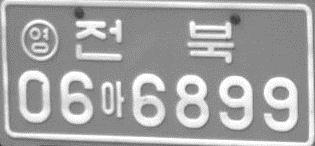0: (17, 68, 52, 125)
6: (130, 72, 166, 128), (59, 69, 94, 125)
8: (175, 72, 210, 129)
9: (261, 76, 299, 133), (217, 74, 254, 131)
아: (100, 79, 125, 119)
영: (20, 16, 60, 63)
전북_D: (74, 18, 235, 65)
